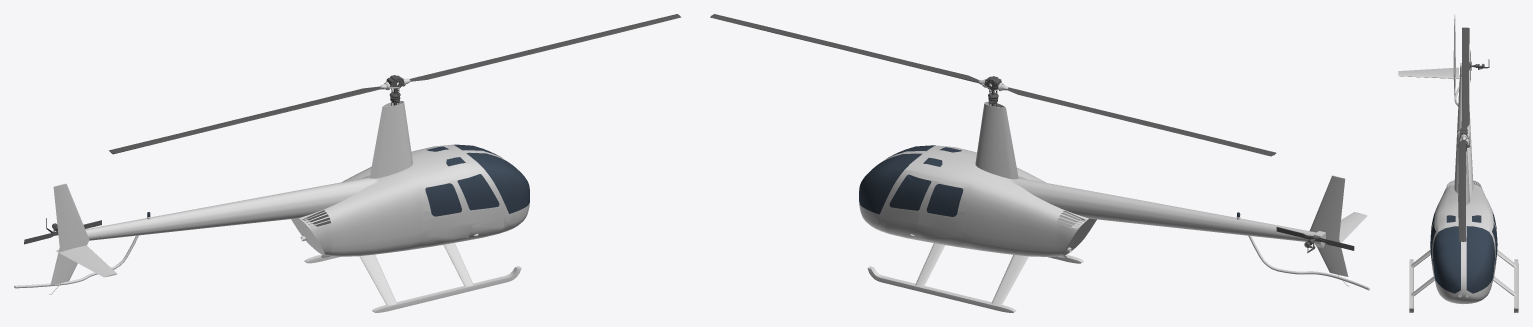
3 views of the same model, side by side, from view 1: azimuth 30°, elevation 25°; view 2: azimuth 150°, elevation 25°; view 3: azimuth 270°, elevation 25° (orthographic). The views are drawn at different scales.
Parts seen in each view (by area): view 1: body, glass, spin; view 2: body, glass, spin (×2); view 3: body, glass, spin (×2).
Part boxes in pixels (<box>): body: <box>14,78,529,312</box>; glass: <box>147,144,529,216</box>; spin: <box>109,14,681,154</box>; body: <box>859,79,1369,312</box>; glass: <box>859,145,1240,217</box>; spin (×2): <box>710,14,1354,253</box>; body: <box>1398,14,1518,312</box>; glass: <box>1430,212,1497,293</box>; spin (×2): <box>1457,27,1489,241</box>.
Size of the model in its own units: 2.2 by 0.6286 by 0.4471.
